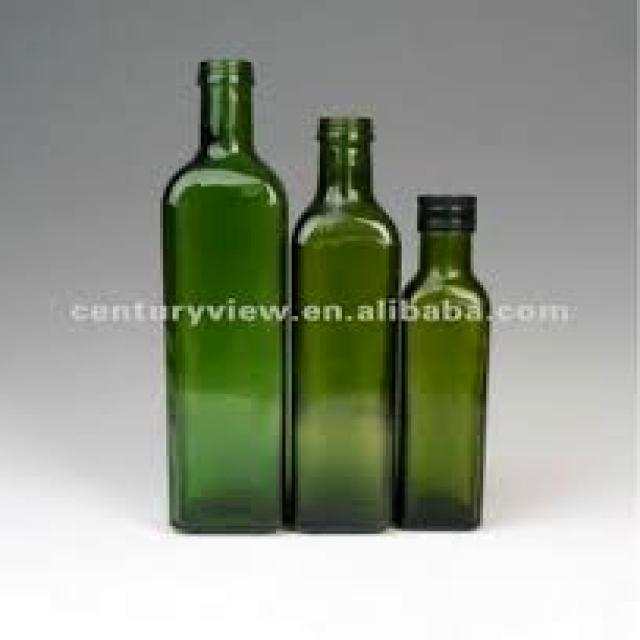Glass: (157, 53, 292, 537), (285, 109, 404, 533), (393, 187, 494, 532)
